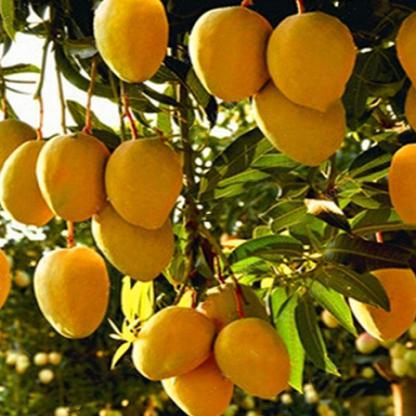mango: (266, 10, 354, 113), (249, 80, 349, 167), (185, 6, 273, 102), (87, 202, 181, 284), (30, 244, 110, 339), (104, 134, 183, 230), (214, 317, 298, 401), (35, 134, 112, 224), (91, 0, 170, 82), (126, 306, 212, 381), (345, 264, 415, 344), (155, 353, 235, 414), (1, 138, 56, 226)
